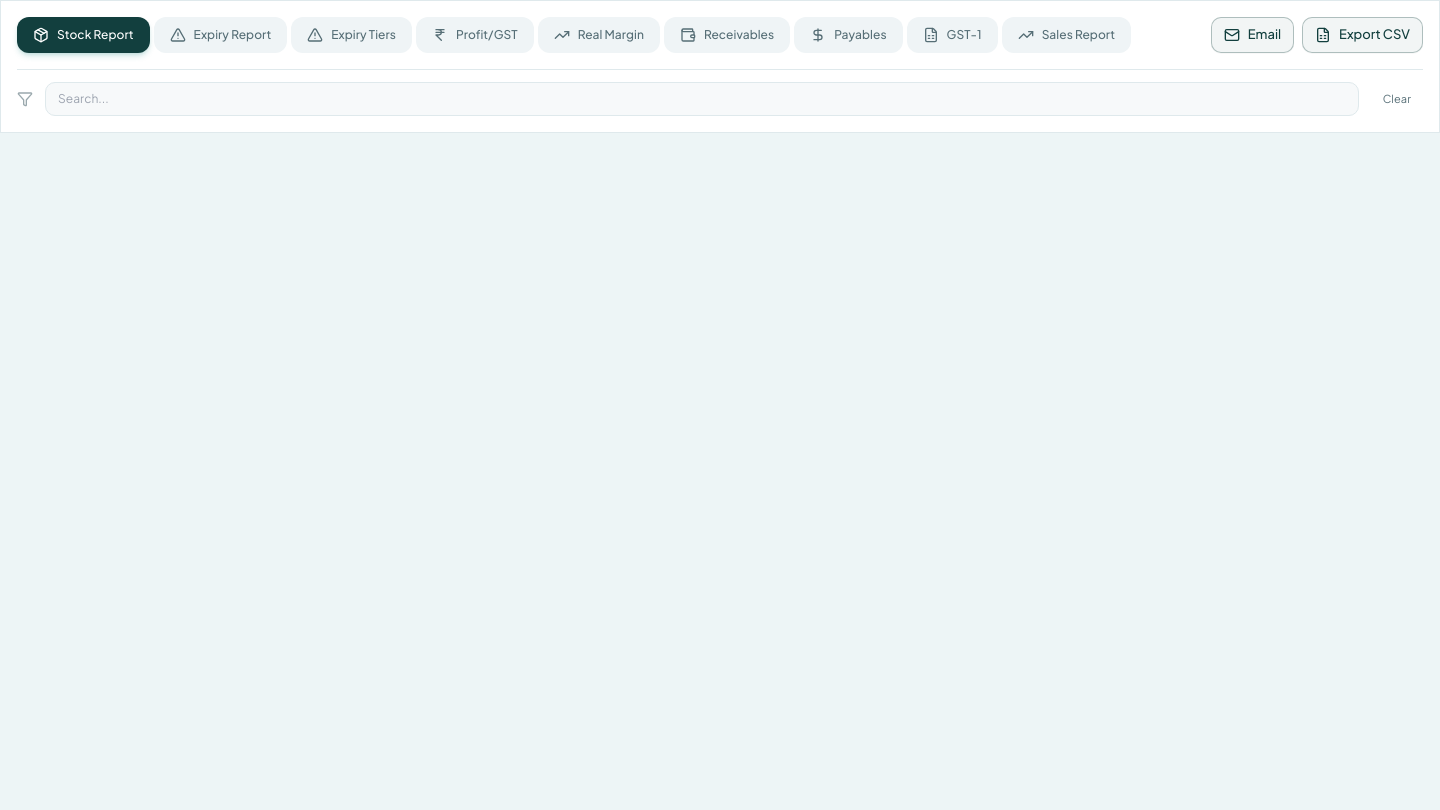
it: Reports Component › Filters › should clear search when clear button clicked
Type "test" into the field with placeholder "Search...". click: (702, 99)
box: [45,82,1359,116]
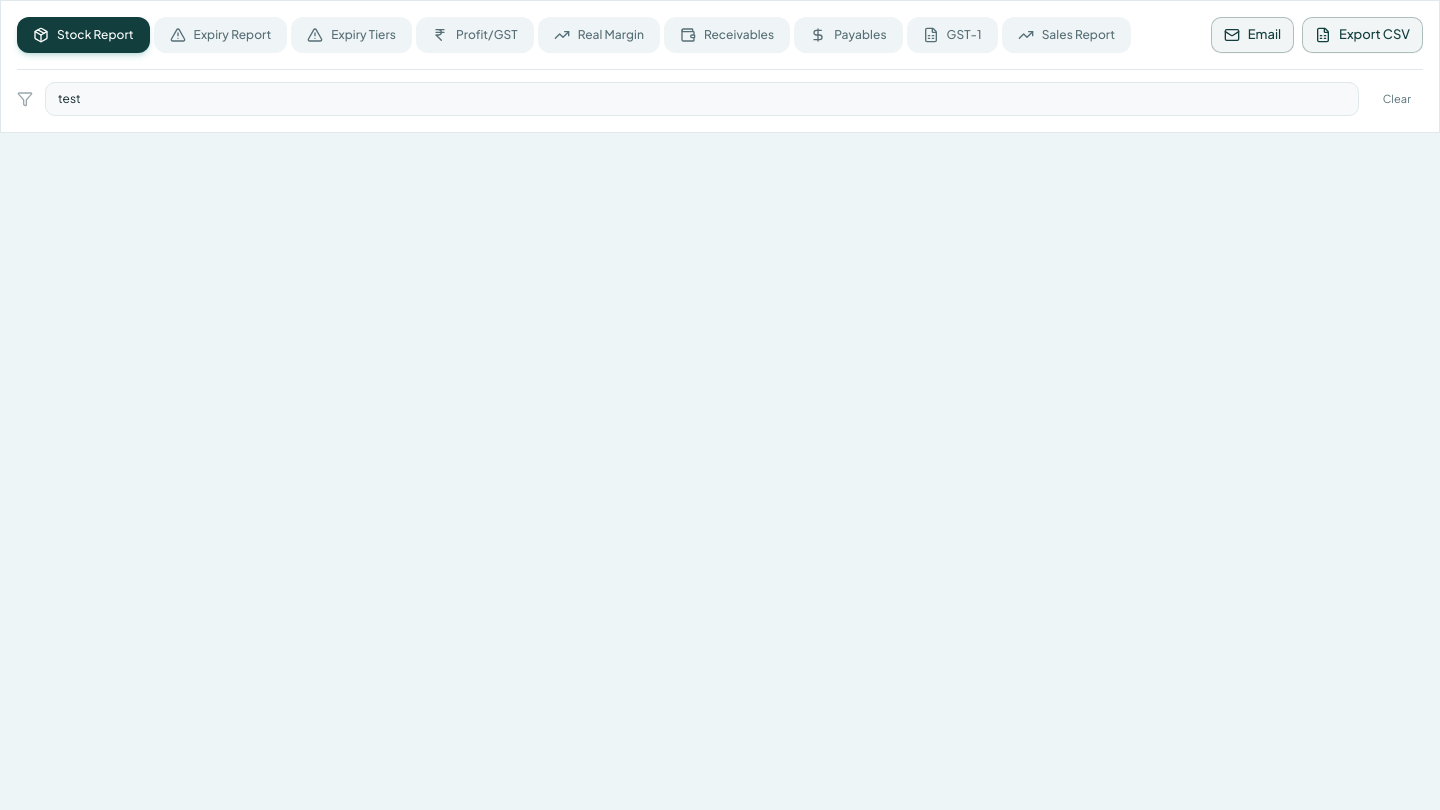
Click the button "Clear". click: (1397, 99)
box: [1371,85,1423,113]
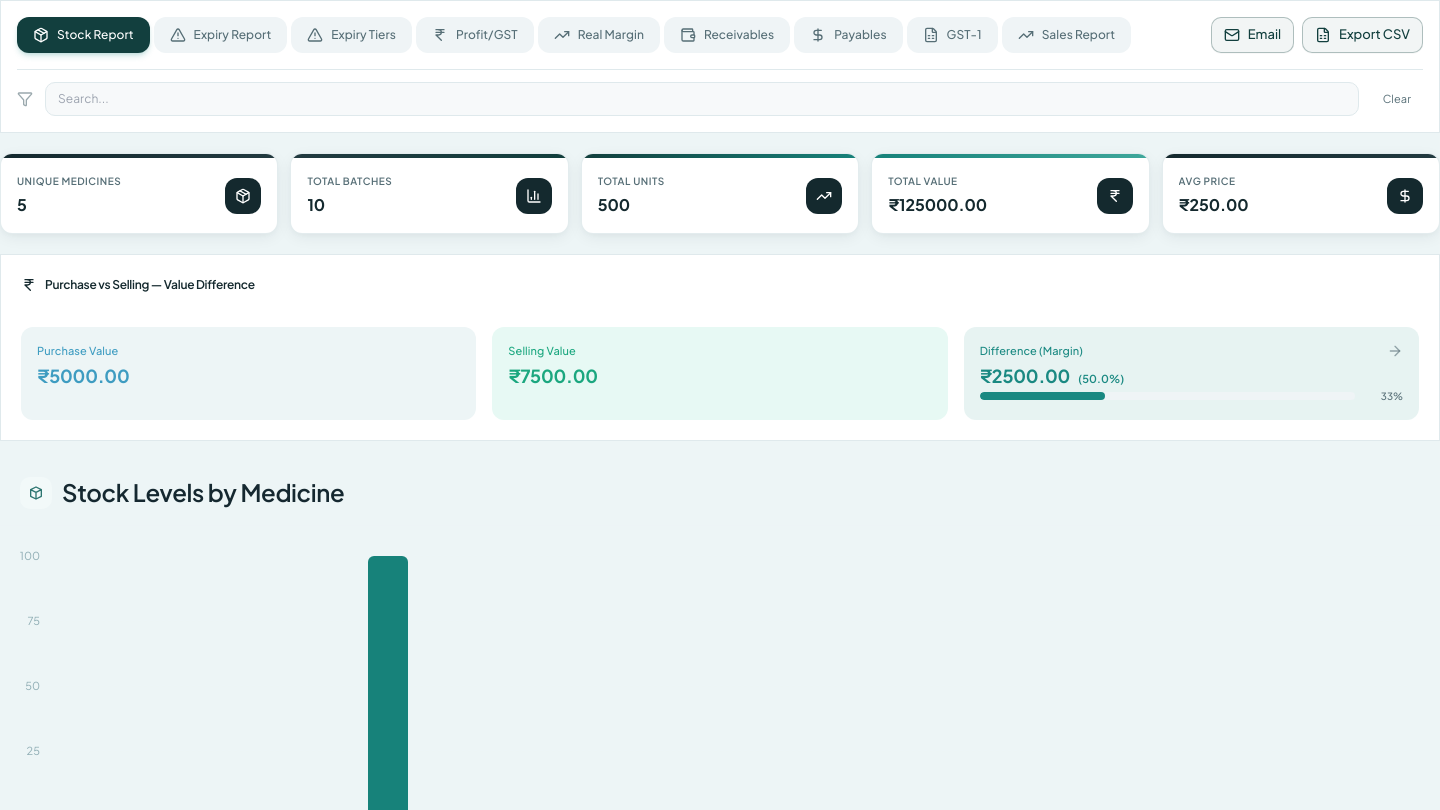
Expected: the field with placeholder "Search..." is empty, [45,82,1359,116]
